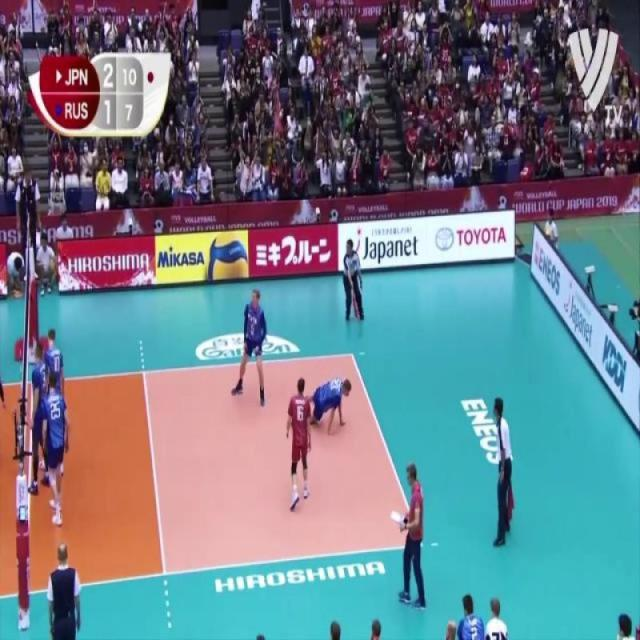volleyball: (206, 231, 248, 282)
